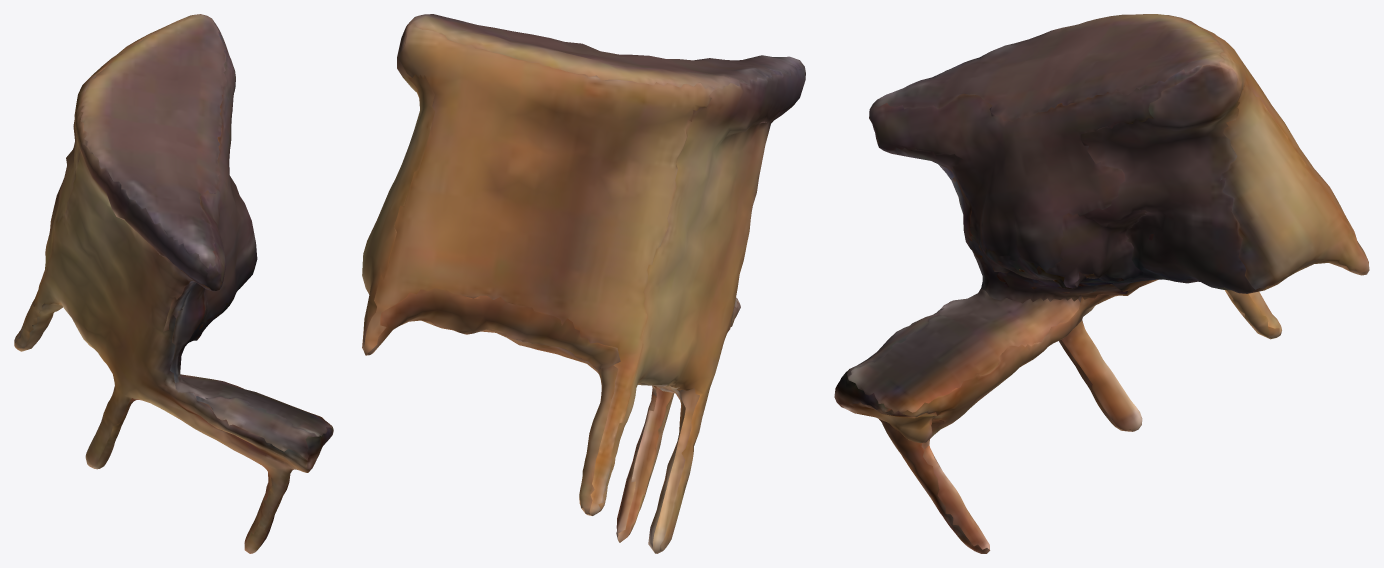
The model's file is 1_chair.glb.
The picture shows the model from 3 angles, left to right: view 1: azimuth 30°, elevation 25°; view 2: azimuth 150°, elevation 25°; view 3: azimuth 270°, elevation 25°; orthographic projection. The views are drawn at different scales.
Visible parts, largest first — view 1: 1_chair; view 2: 1_chair; view 3: 1_chair.
Part boxes in pixels (x1,y1,x2,y2): 1_chair: (14,14,333,553); 1_chair: (362,14,805,553); 1_chair: (834,14,1369,553).
Size of the model in its own units: 0.5777 by 1.33 by 1.23.
1 material, 1 textured.
